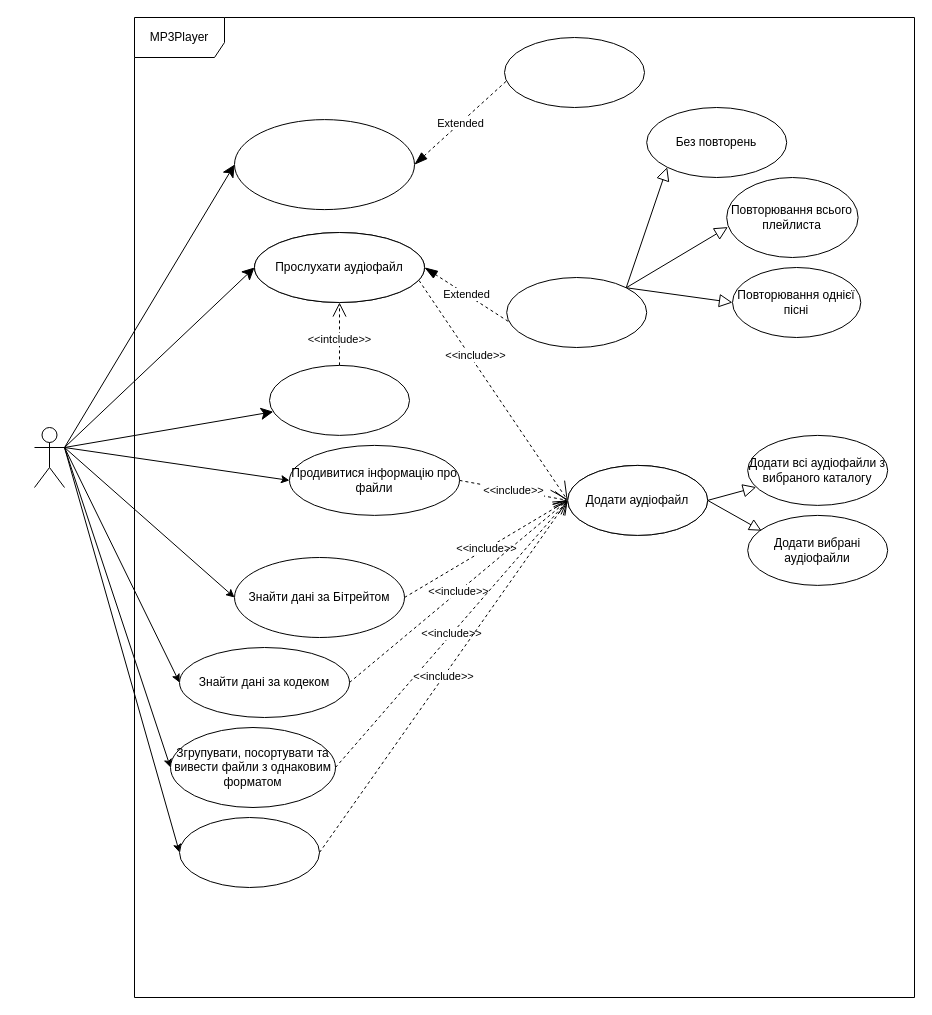
Image size: 932x1015. Some labels were removed from this diagram. Each missing label, with the box of its shape:
Вибрати спосіб повтору програвання пісень: (506, 276, 647, 348)
Визначити найменш та найбільш триваліші файли: (178, 816, 320, 888)
Змінити гучність програвання: (234, 119, 414, 210)
Зробити беззвучним: (504, 36, 644, 108)
Зупинити програвання: (268, 364, 410, 435)
Користувач: (34, 426, 64, 488)
